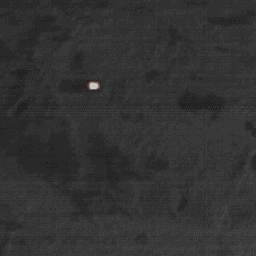Target: (85, 79, 102, 90)
